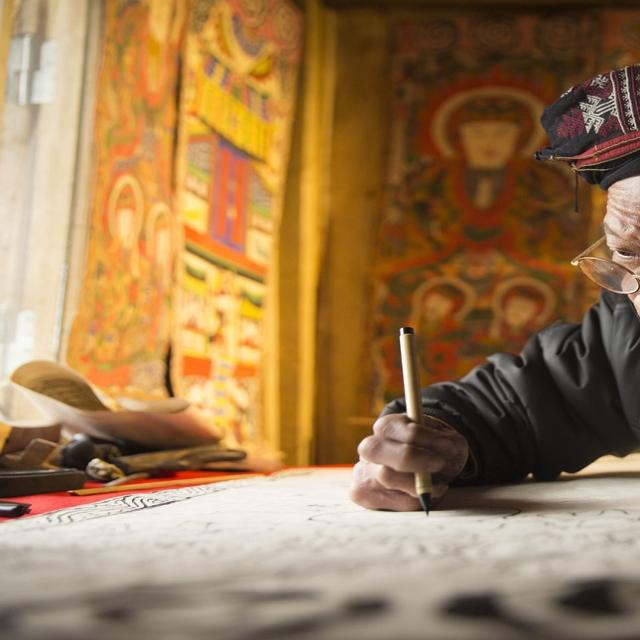pen: (372, 302, 469, 541)
